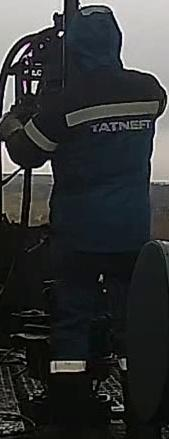gloves: (0, 107, 24, 145)
vest: (44, 65, 161, 265)
